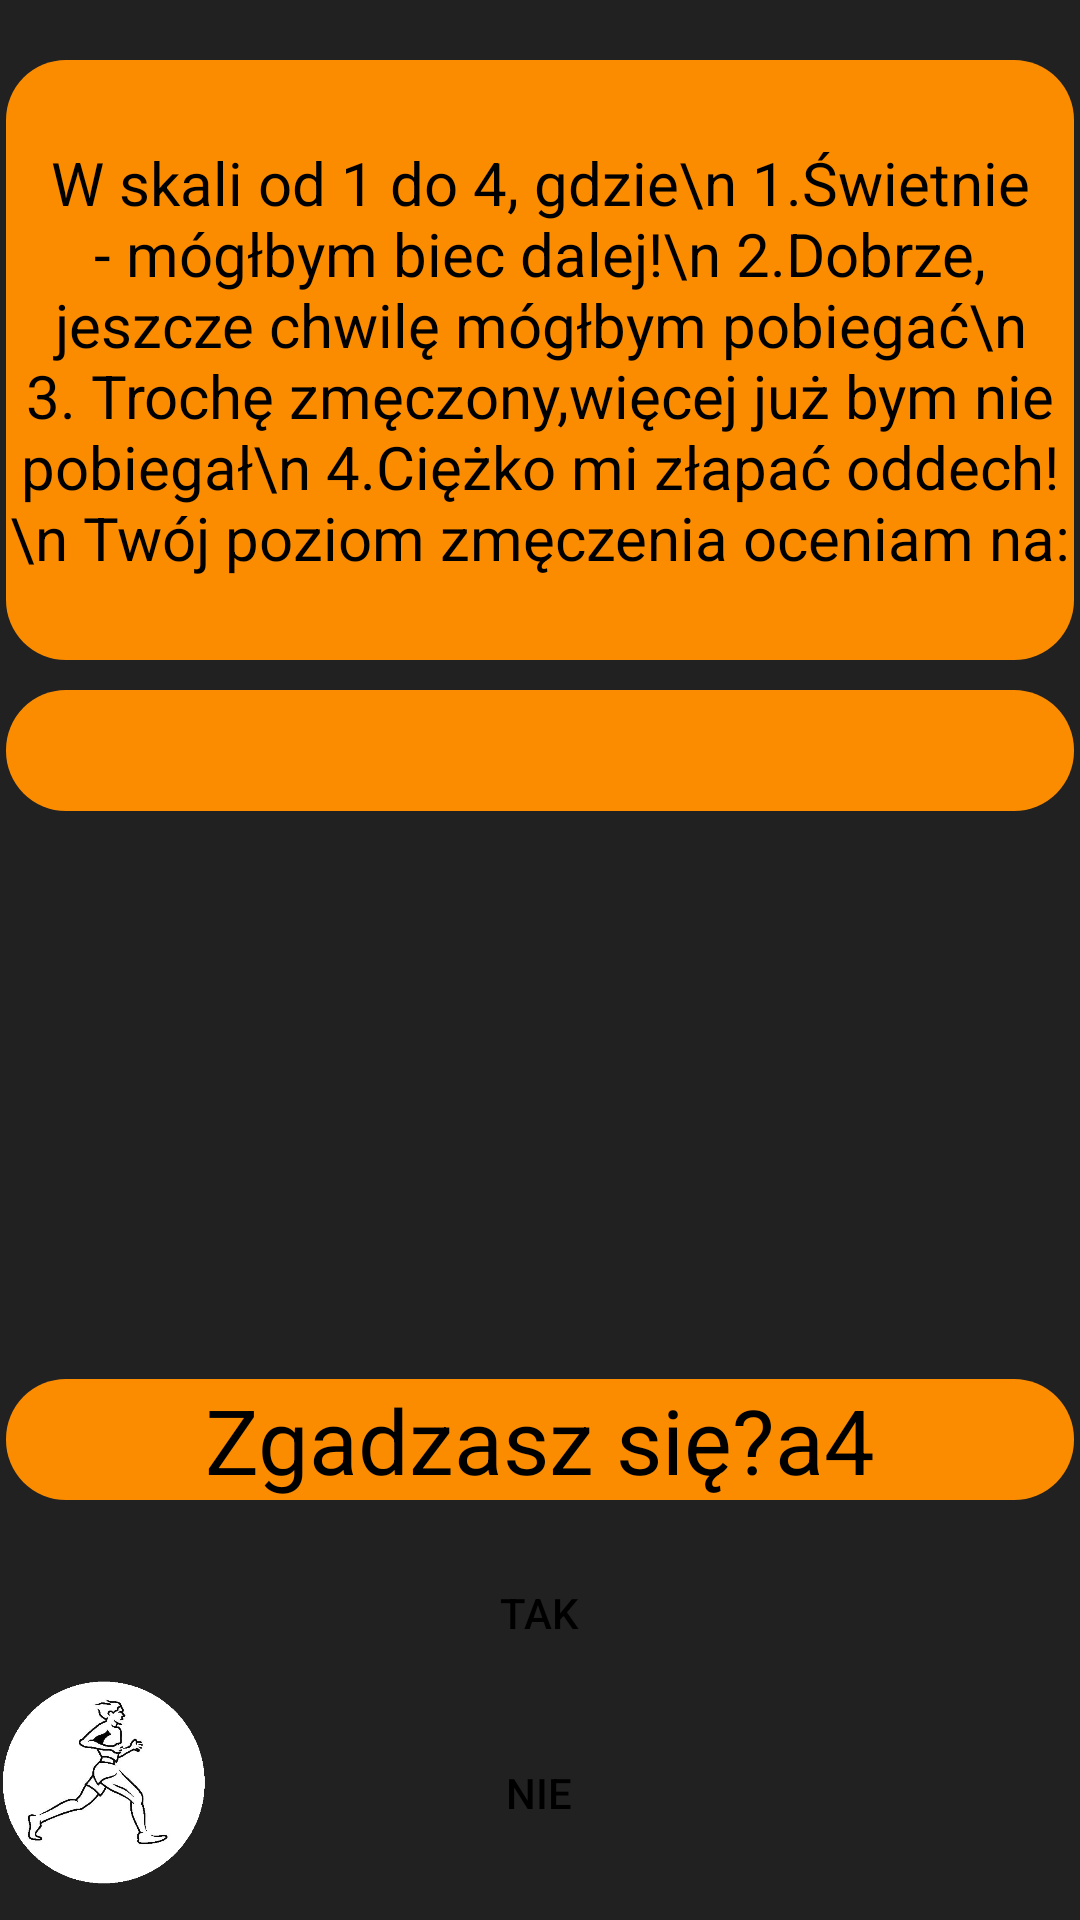

Named icons in this screenshot (1080x1920) and their centers, (x=x, y=y):
biegaczz: (x=104, y=1782)
